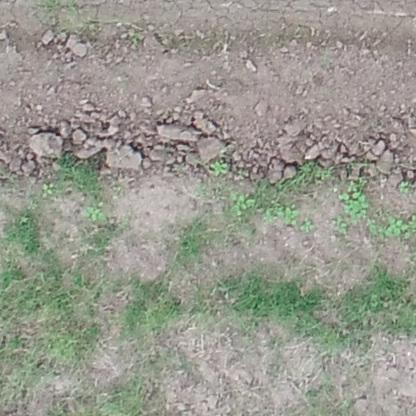vc: (208, 159, 230, 176), (85, 207, 104, 221), (38, 182, 55, 196), (353, 190, 368, 203), (397, 180, 410, 195), (339, 192, 350, 200)
